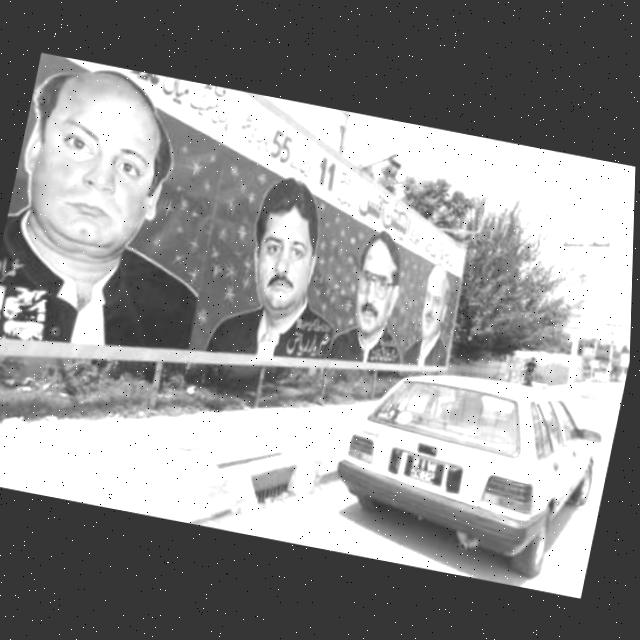face: (4, 53, 196, 280), (222, 171, 341, 330), (340, 225, 419, 351), (407, 254, 463, 351)
